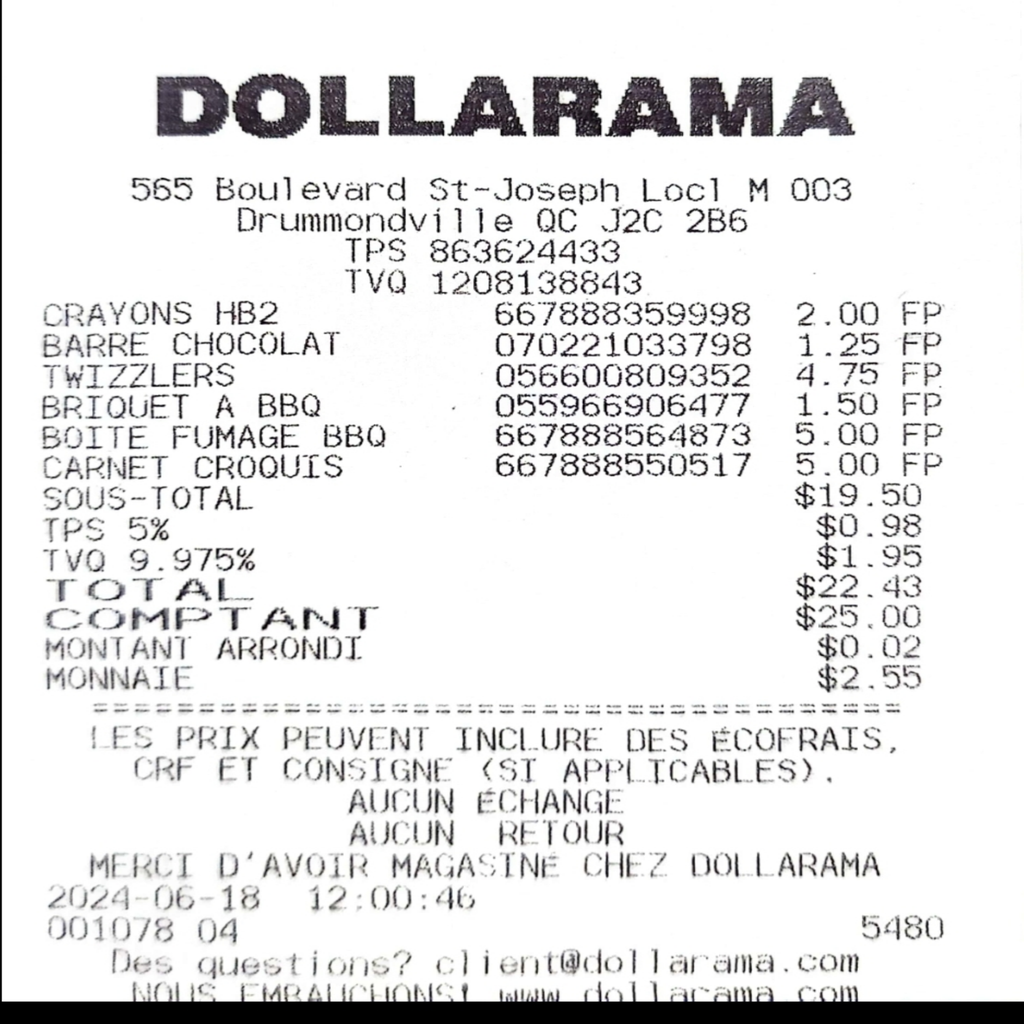recipt: (4, 0, 1022, 1007)
